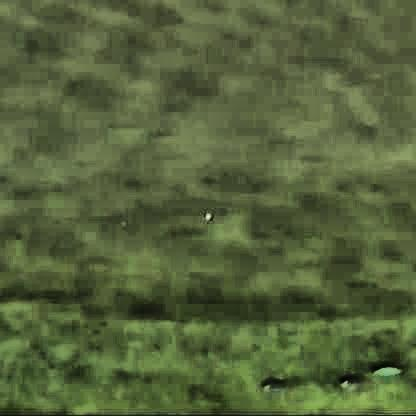golfball: (202, 212, 212, 219)
